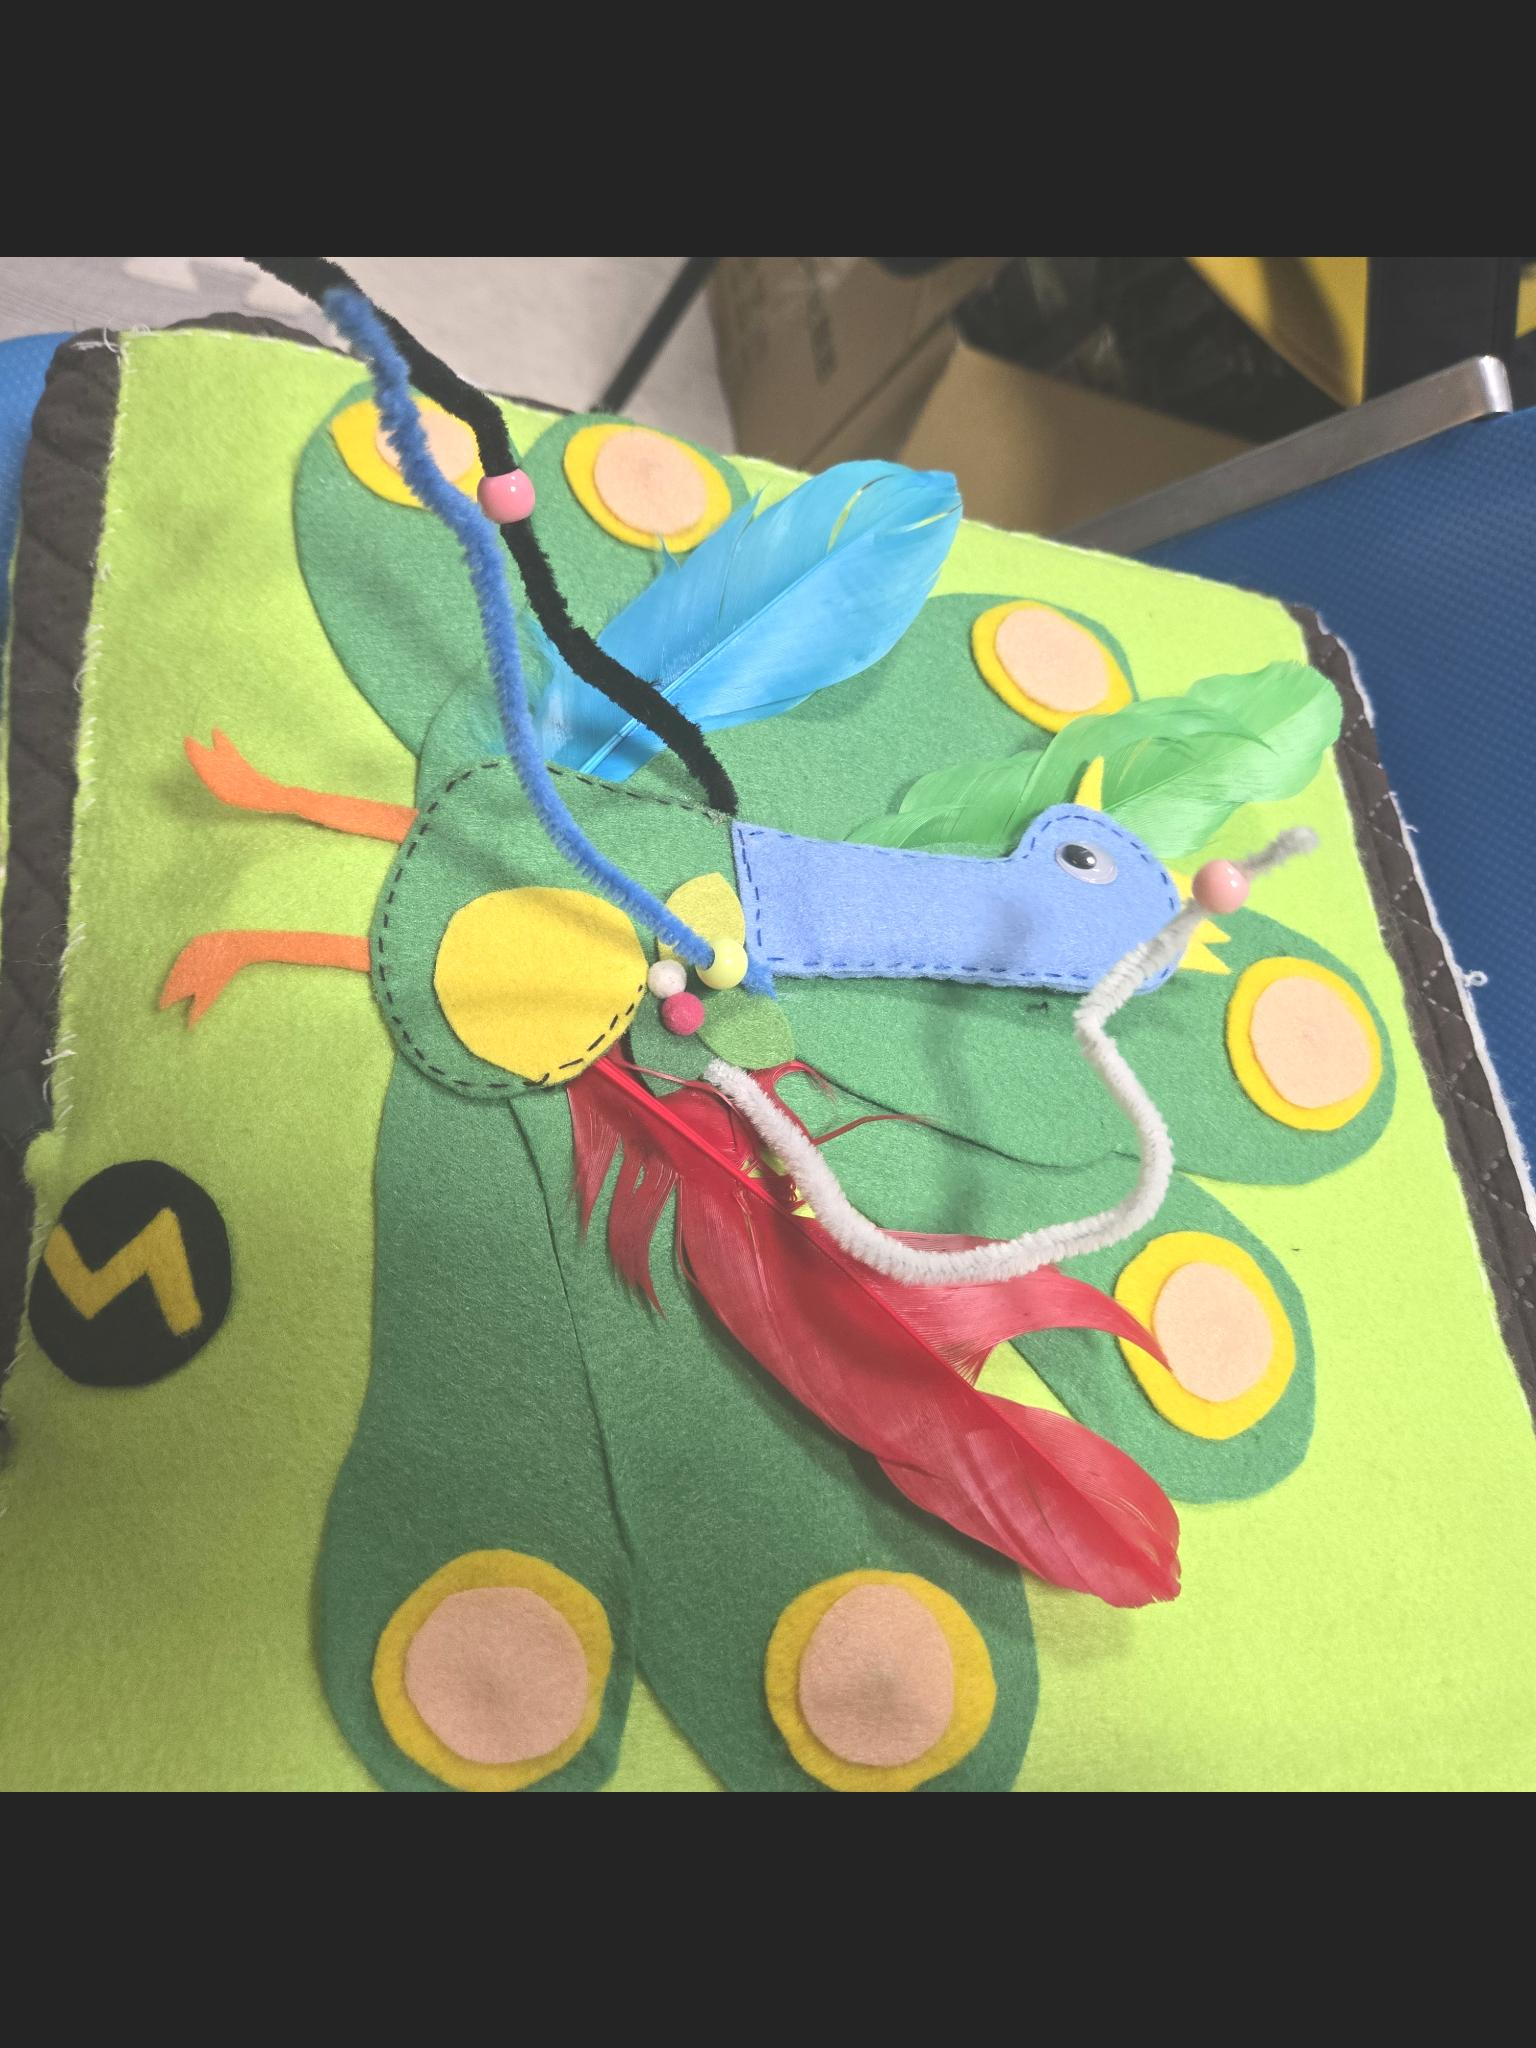bead: (1179, 850, 1268, 934), (468, 450, 563, 527), (679, 927, 766, 1003)
